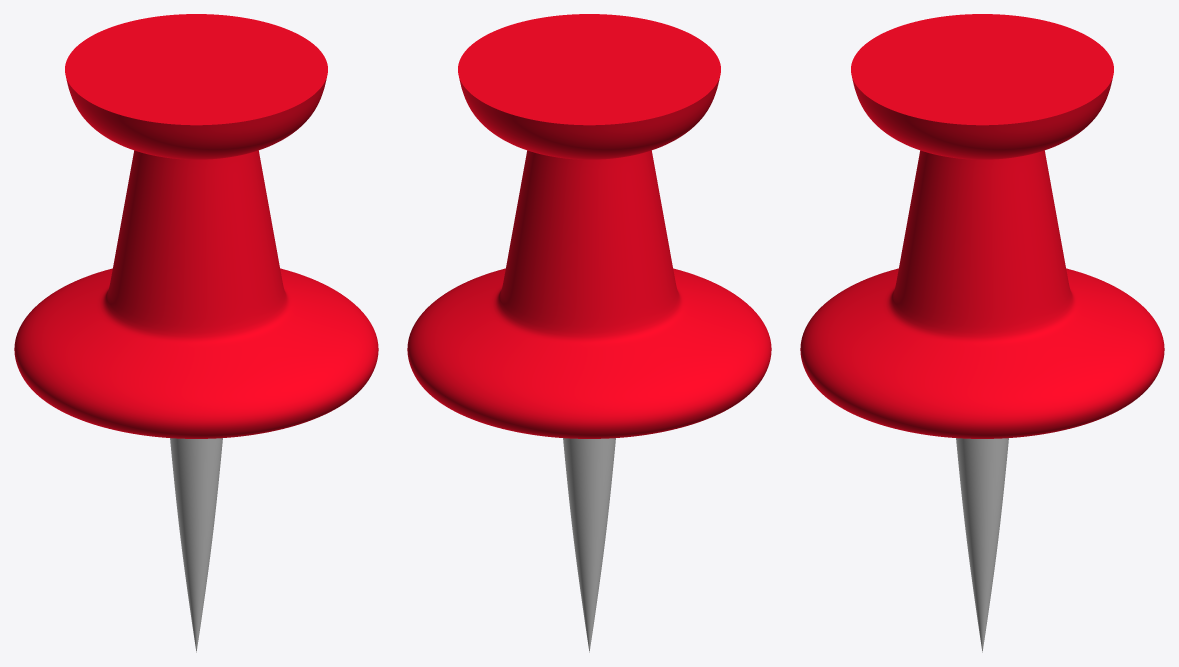
File: map_pin.glb
3 views of the same model, side by side, from view 1: azimuth 30°, elevation 25°; view 2: azimuth 150°, elevation 25°; view 3: azimuth 270°, elevation 25° (orthographic).
Visible parts, largest first — view 1: Object_3, Object_2; view 2: Object_3, Object_2; view 3: Object_3, Object_2.
Part boxes in pixels (x1=…): Object_3: x1=14, y1=14, x2=378, y2=438; Object_2: x1=170, y1=438, x2=222, y2=652; Object_3: x1=407, y1=14, x2=771, y2=438; Object_2: x1=563, y1=438, x2=615, y2=652; Object_3: x1=800, y1=14, x2=1164, y2=438; Object_2: x1=956, y1=438, x2=1008, y2=652.
Size of the model in its own units: 4.82 by 8.53 by 4.82.
